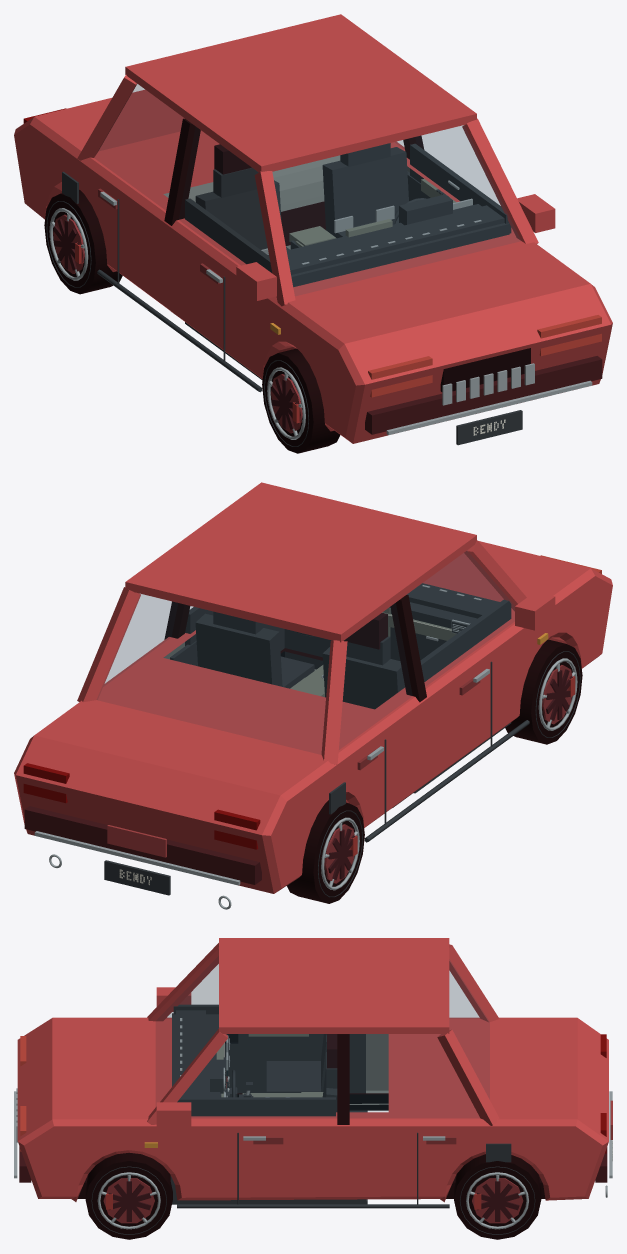
The picture shows the model from 3 angles, top to bottom: view 1: azimuth 30°, elevation 25°; view 2: azimuth 150°, elevation 25°; view 3: azimuth 270°, elevation 25°; orthographic projection. The views are drawn at different scales.
Parts seen in each view (by area): view 1: body, windows, cabin-detail-trim, close-detail-detail-trim, wheel-mesh_2, wheel-mesh, close-detail-detail-alloy, legacy-body-lining, cabin-cabin-trim, cabin-detail-alloy, wheel-front-right-fittings-detail-alloy, wheel-rear-right-fittings-detail-alloy; view 2: body, windows, close-detail-detail-trim, cabin-detail-trim, wheel-mesh_2, wheel-mesh, close-detail-detail-alloy, cabin-cabin-trim, wheel-rear-right-fittings-detail-alloy, wheel-front-right-fittings-detail-alloy; view 3: body, windows, cabin-detail-trim, wheel-mesh_3, wheel-mesh_1, close-detail-detail-trim, legacy-body-lining, close-detail-detail-alloy, wheel-front-left-fittings-detail-alloy, wheel-rear-left-fittings-detail-alloy, cabin-cabin-trim.
Part boxes in pixels (bbox=[...]): body: bbox=[14, 14, 612, 443]; windows: bbox=[95, 84, 520, 295]; cabin-detail-trim: bbox=[173, 143, 511, 380]; close-detail-detail-trim: bbox=[62, 143, 522, 445]; wheel-mesh_2: bbox=[262, 348, 340, 453]; wheel-mesh: bbox=[44, 189, 122, 294]; close-detail-detail-alloy: bbox=[100, 191, 592, 435]; legacy-body-lining: bbox=[163, 155, 409, 249]; cabin-cabin-trim: bbox=[289, 178, 455, 246]; cabin-detail-alloy: bbox=[261, 180, 481, 264]; wheel-front-right-fittings-detail-alloy: bbox=[267, 367, 305, 439]; wheel-rear-right-fittings-detail-alloy: bbox=[49, 208, 88, 280]; body: bbox=[14, 482, 612, 893]; windows: bbox=[97, 551, 514, 753]; close-detail-detail-trim: bbox=[104, 611, 529, 895]; cabin-detail-trim: bbox=[170, 583, 511, 807]; wheel-mesh_2: bbox=[505, 639, 582, 744]; wheel-mesh: bbox=[287, 800, 364, 903]; close-detail-detail-alloy: bbox=[34, 669, 489, 909]; cabin-cabin-trim: bbox=[290, 608, 456, 697]; wheel-rear-right-fittings-detail-alloy: bbox=[321, 817, 359, 890]; wheel-front-right-fittings-detail-alloy: bbox=[538, 658, 577, 730]; body: bbox=[17, 938, 612, 1202]; windows: bbox=[156, 957, 489, 1117]; cabin-detail-trim: bbox=[170, 1004, 367, 1204]; wheel-mesh_3: bbox=[85, 1152, 172, 1239]; wheel-mesh_1: bbox=[454, 1154, 541, 1239]; close-detail-detail-trim: bbox=[177, 1034, 511, 1208]; legacy-body-lining: bbox=[224, 1034, 388, 1110]; close-detail-detail-alloy: bbox=[14, 1088, 612, 1197]; wheel-front-left-fittings-detail-alloy: bbox=[97, 1172, 160, 1229]; wheel-rear-left-fittings-detail-alloy: bbox=[466, 1172, 528, 1229]; cabin-cabin-trim: bbox=[216, 1034, 323, 1097].
Bounding box in the file's own units: 1.94 × 1.48 × 3.98.
